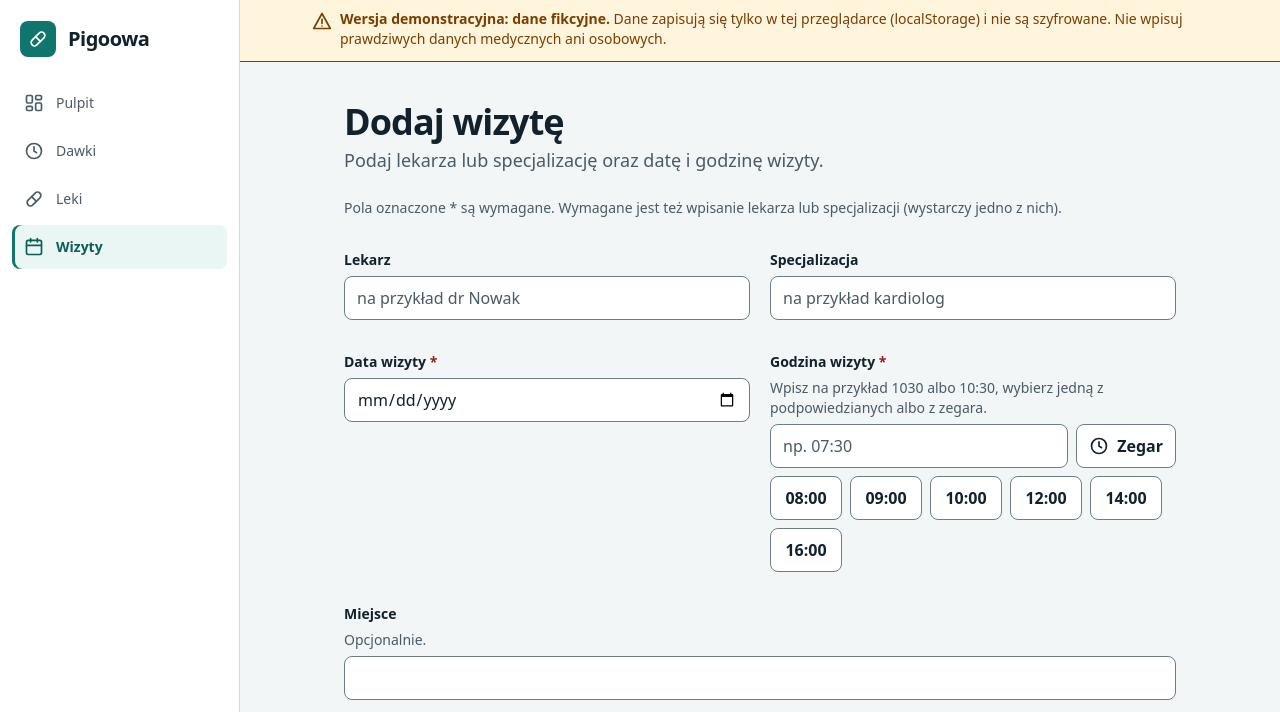
Scenario: add appointment: the form › refuses a time that does not exist because the clocks jump forward
The image size is (1280, 712).
In the field labelled "Lekarz": (547, 298) [344, 276, 750, 320], type "dr Nowak"
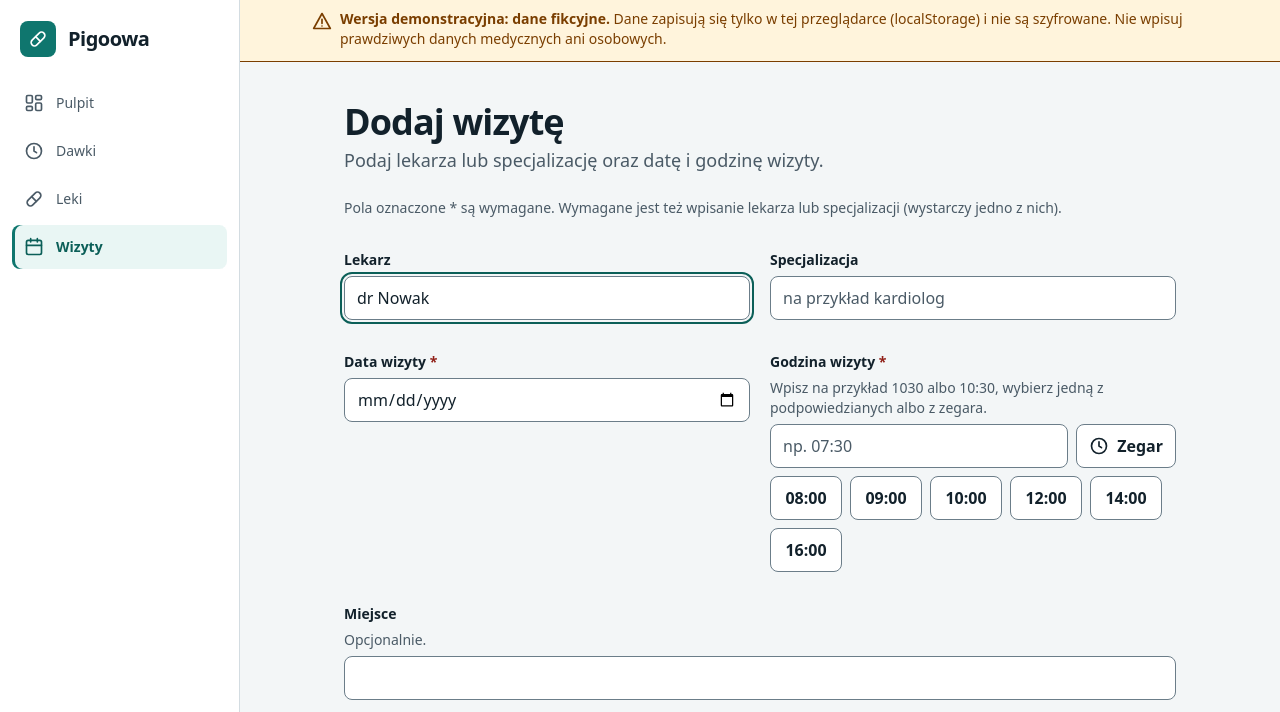
In the date field labelled "Data wizyty *": (547, 400) [344, 378, 750, 422], type "2026-03-29"
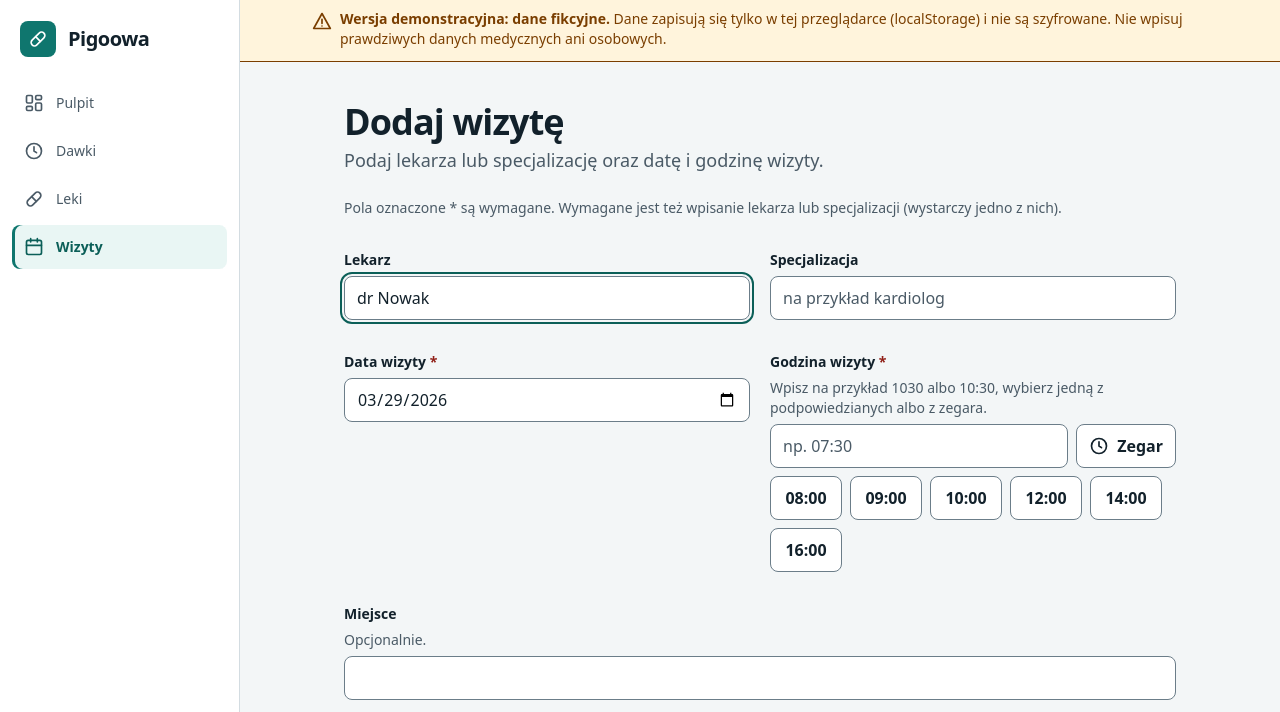
In the field labelled "Godzina wizyty *": (919, 446) [770, 424, 1068, 468], type "02:30"
(page scrolled)
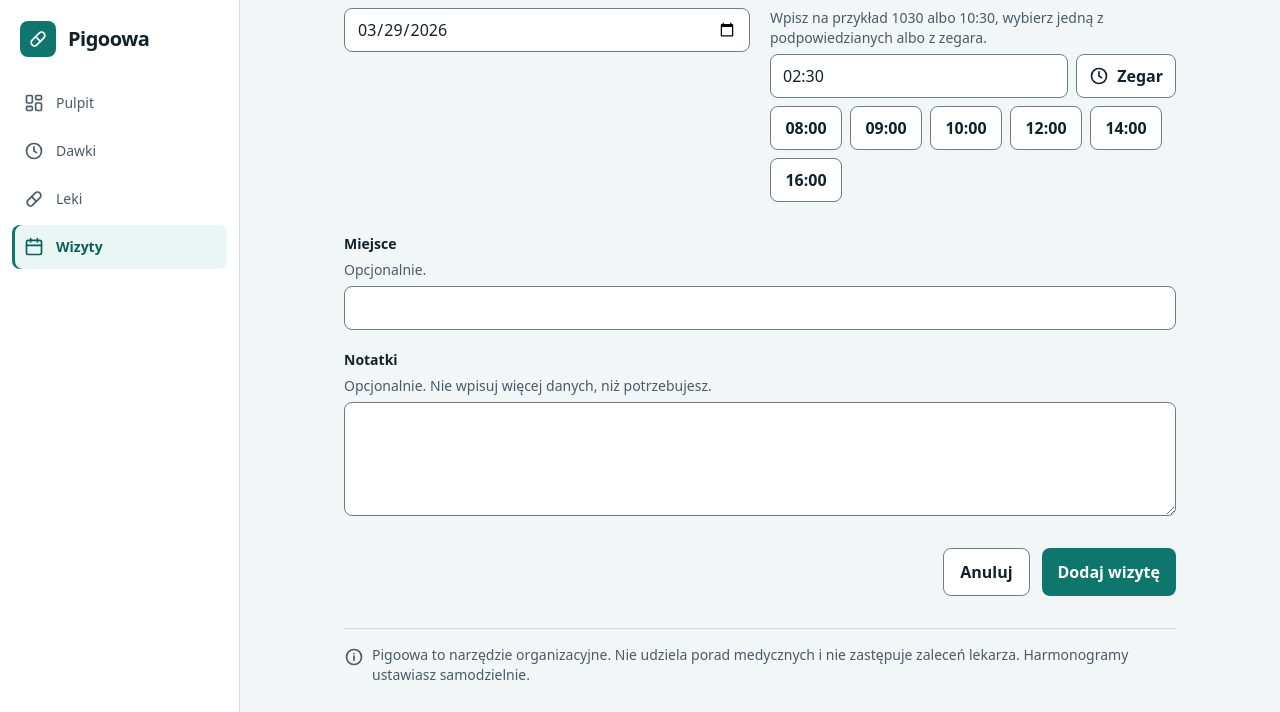
Click the button "Dodaj wizytę": (1109, 572) [1042, 548, 1176, 596]
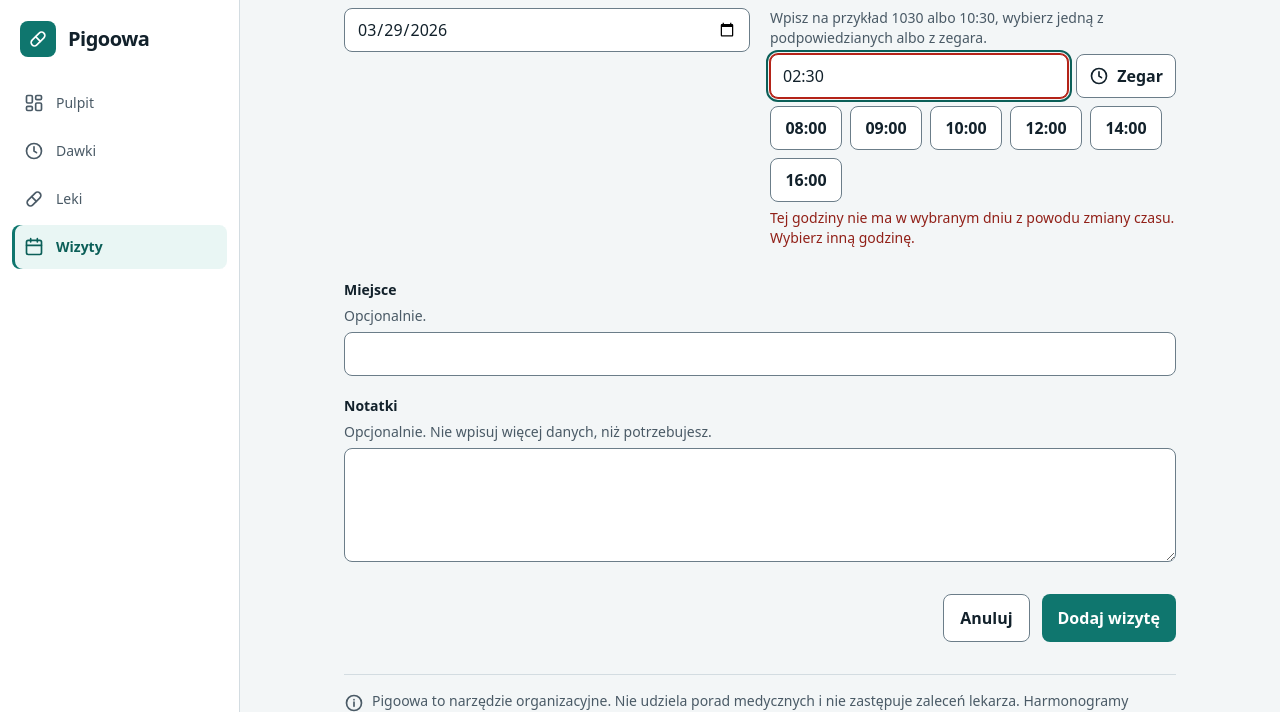
Expected: the text "Tej godziny nie ma w wybranym dniu z powodu zmiany czasu. Wybierz inną godzinę." is shown, [770, 208, 1176, 248]
